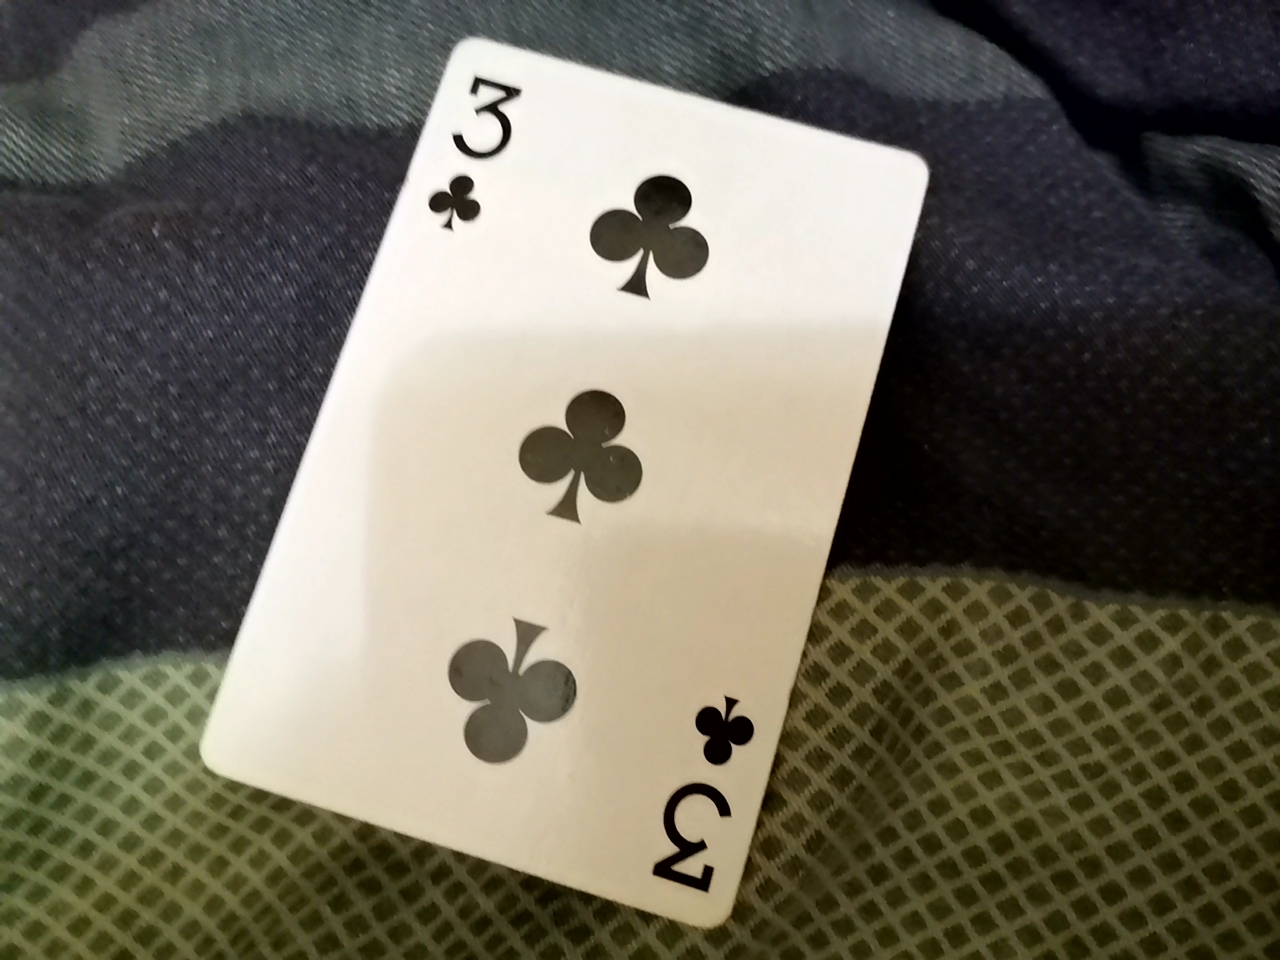mh 3: (214, 65, 945, 950)
